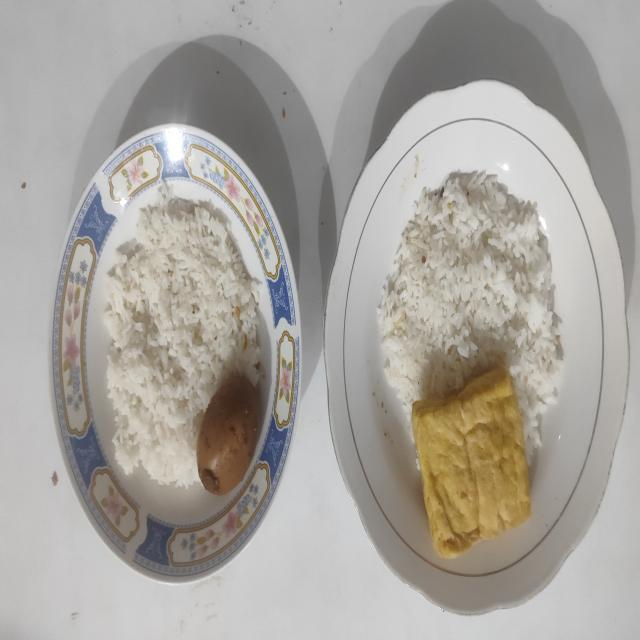nasi_putih: (378, 171, 563, 454), (103, 184, 260, 487)
tahu_goreng: (412, 368, 530, 558)
